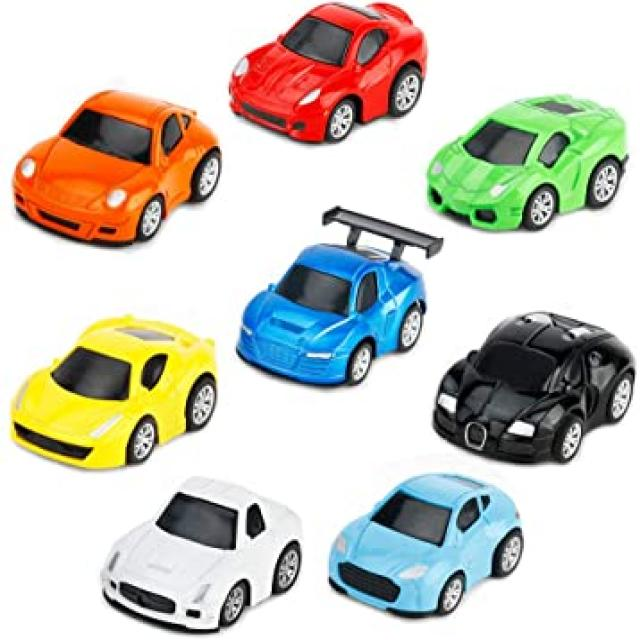Car: (234, 204, 443, 386), (10, 87, 222, 245), (9, 312, 216, 470), (98, 474, 302, 633), (430, 308, 634, 464), (327, 471, 524, 618), (227, 0, 427, 144), (424, 92, 629, 231)
